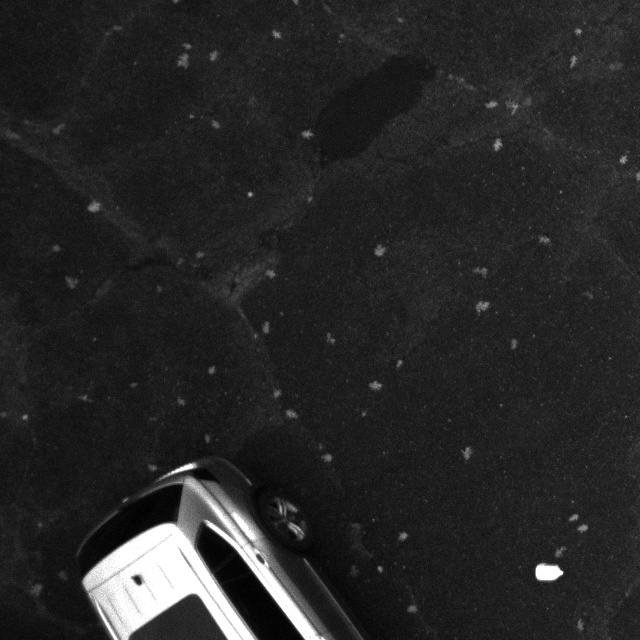can: (532, 559, 567, 587)
